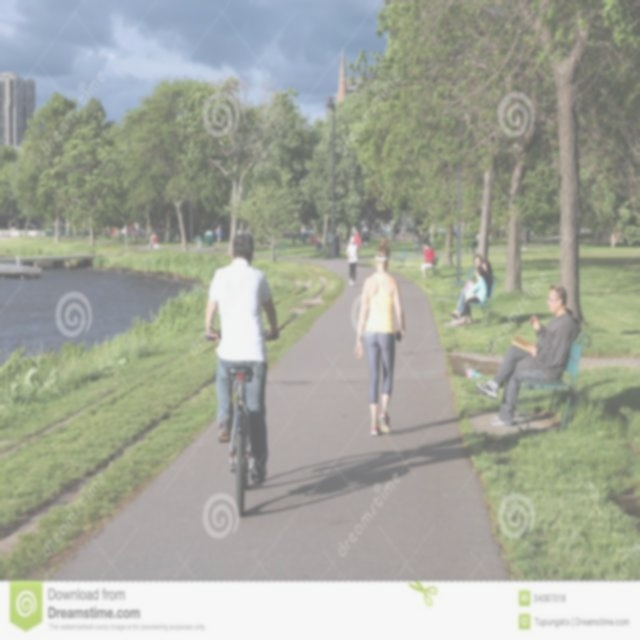pessoa: (202, 229, 280, 486), (472, 282, 584, 428), (353, 236, 408, 438), (413, 220, 512, 253), (448, 259, 494, 321), (449, 264, 489, 328), (456, 254, 484, 304), (344, 234, 360, 287), (419, 238, 435, 280), (326, 228, 344, 248), (352, 228, 362, 258), (214, 223, 223, 250), (360, 227, 370, 247), (298, 224, 308, 244), (392, 220, 402, 236), (9, 216, 19, 232), (131, 224, 137, 244), (310, 233, 319, 246), (308, 235, 314, 242)
